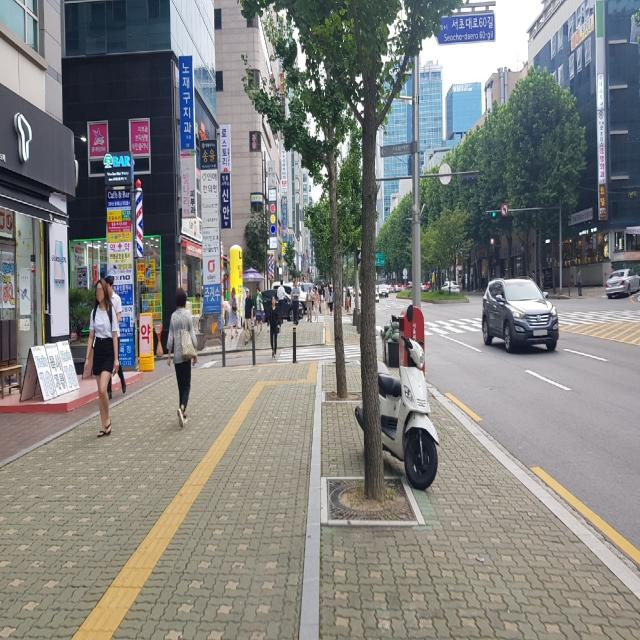횡단보도: (277, 344, 361, 362), (565, 310, 638, 322), (432, 319, 476, 334)
